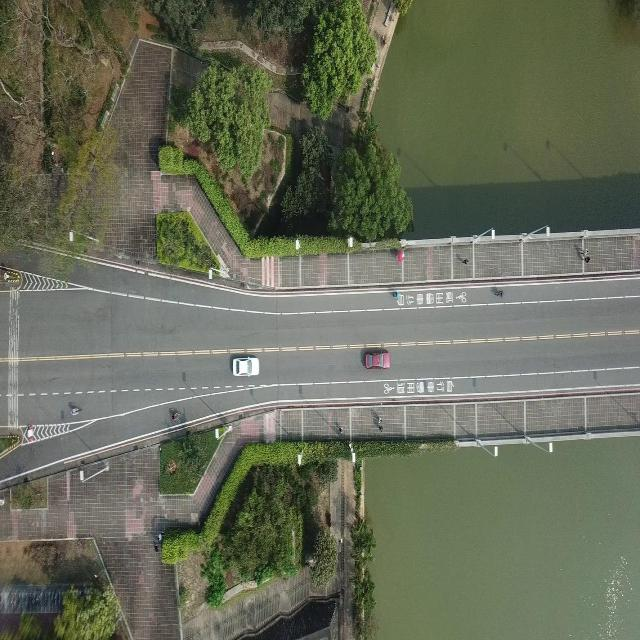car: (232, 353, 258, 376), (363, 348, 390, 369)
